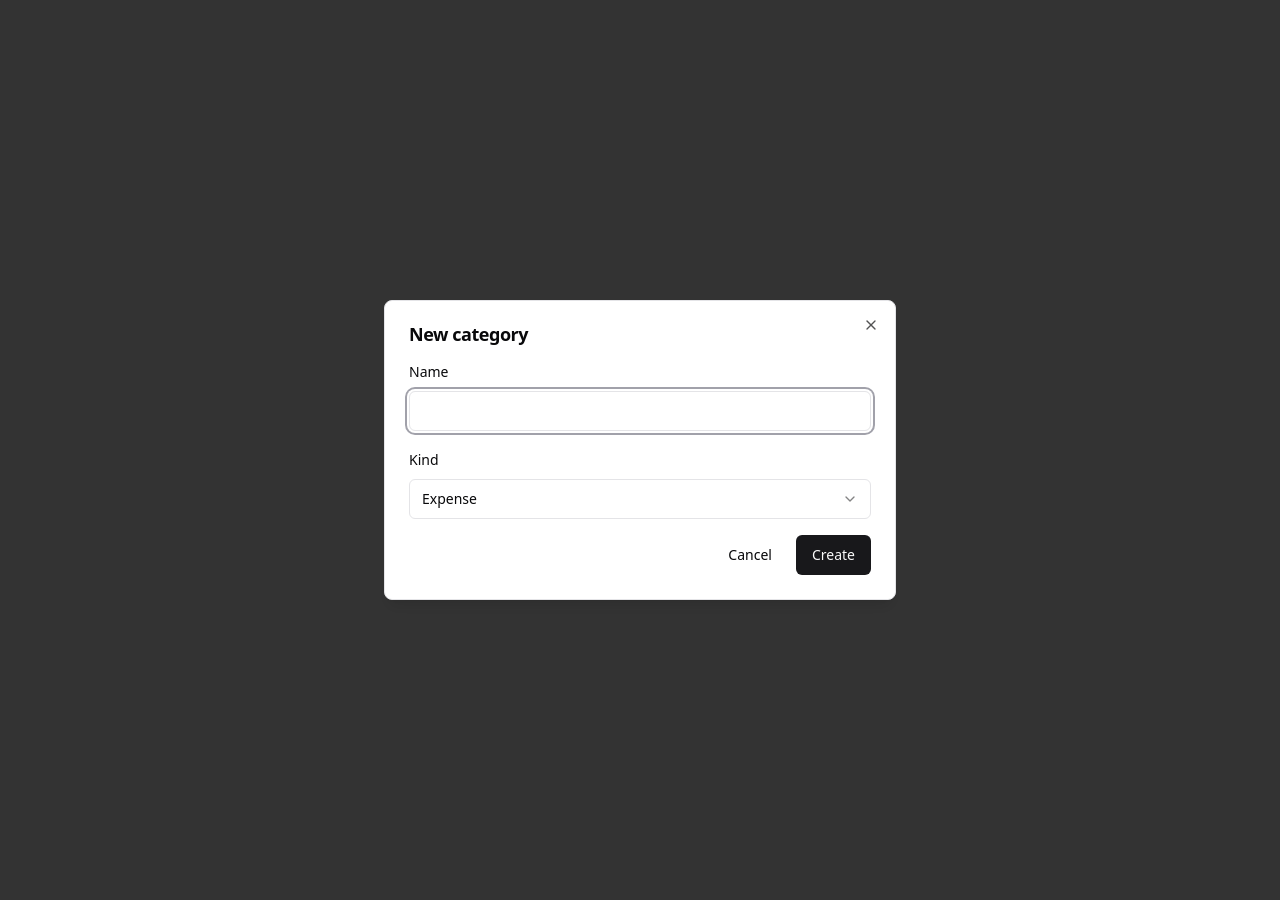
Test case: CategoryFormDialog › shows target fields when kind switches to savings
Check: the field labelled "target amount" is not shown
Check: the field labelled "target date" is not shown
# Open the kind Select and click Savings.
Click the dropdown named "kind".
click(449, 498)  # box top-left (409, 479), bottom-right (871, 519)
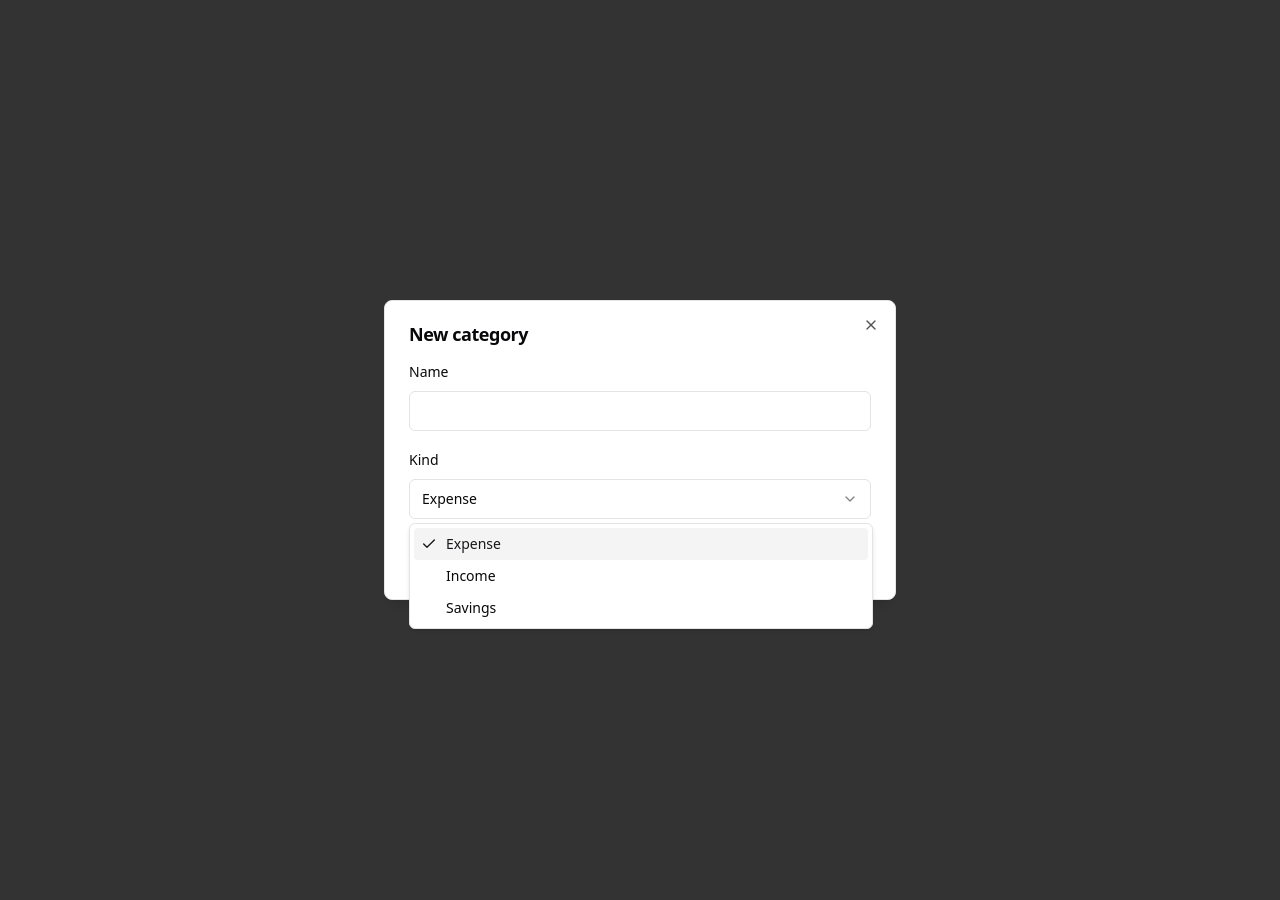
Click the option "Savings".
click(471, 608)  # box top-left (446, 598), bottom-right (496, 617)
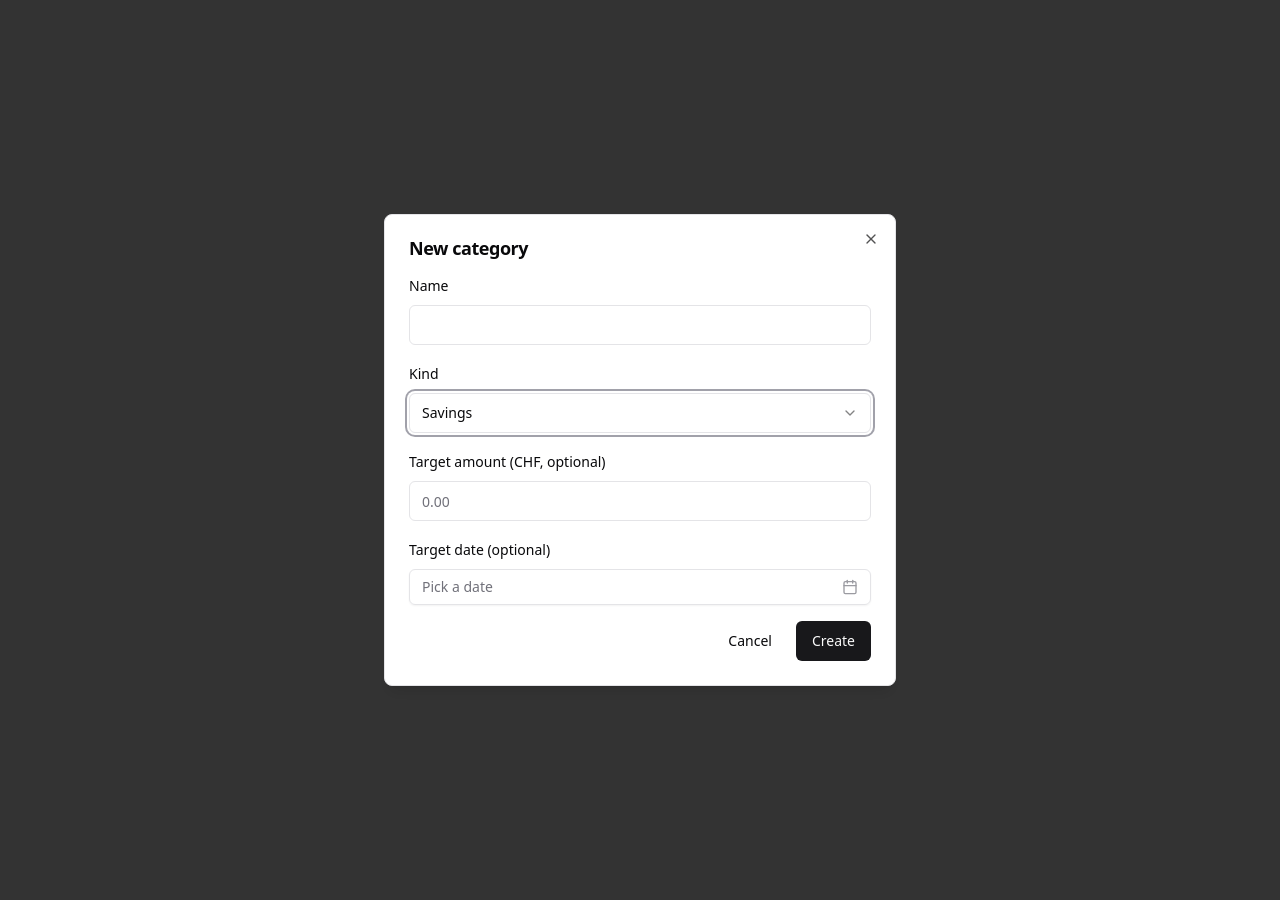
Check: the field labelled "Target amount (CHF, optional)" is shown, box top-left (409, 481), bottom-right (871, 521)
Check: the button named "target date" is shown, box top-left (409, 569), bottom-right (871, 605)
